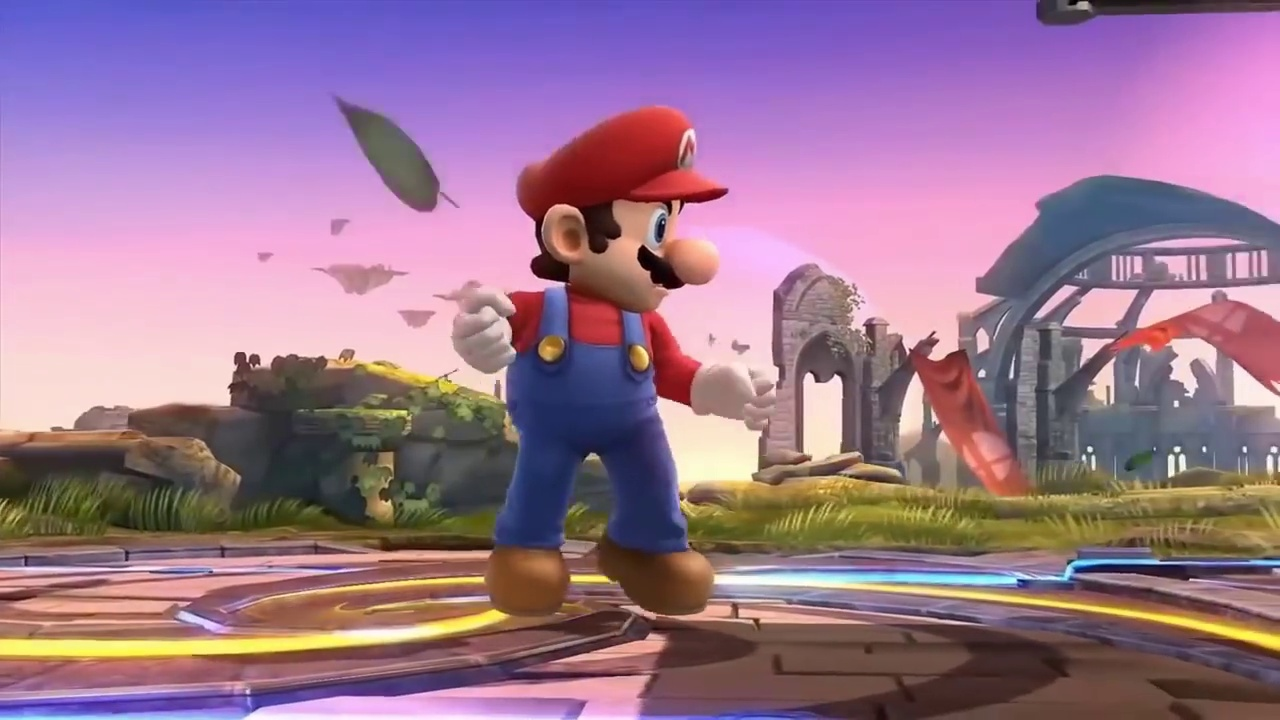Mario: (451, 102, 773, 617)
